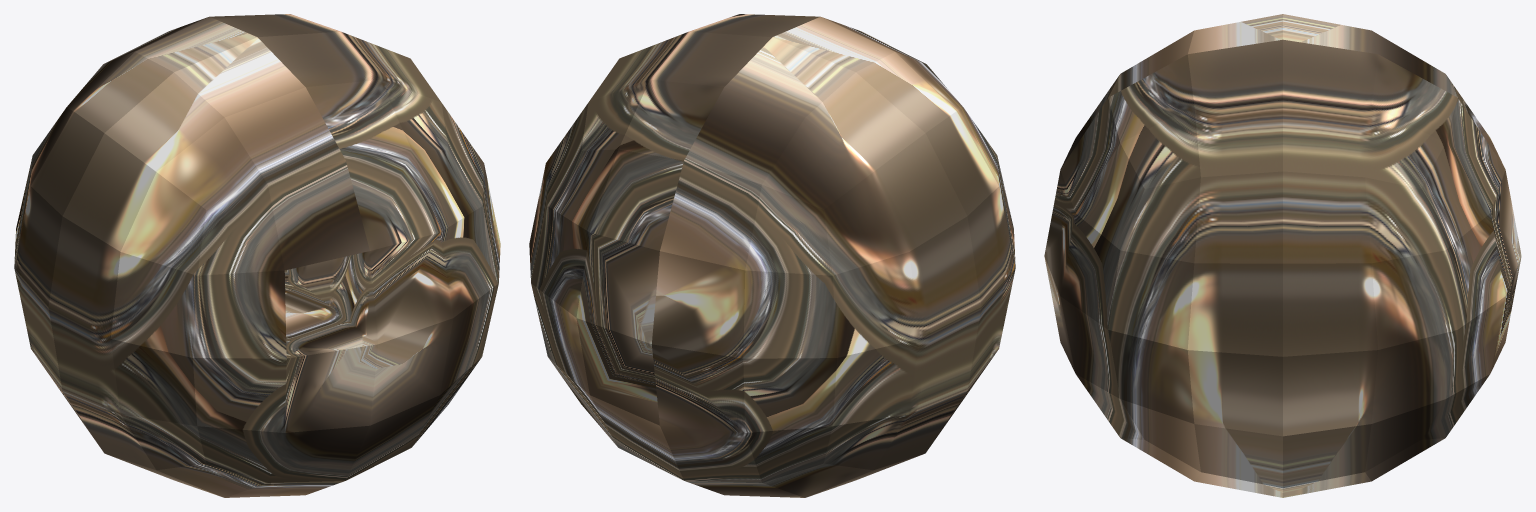
The model's file is csphere2.fbx.
3 renders of one model, left to right at view 1: azimuth 30°, elevation 25°; view 2: azimuth 150°, elevation 25°; view 3: azimuth 270°, elevation 25°, orthographic.
Parts seen in each view (by area): view 1: Cube; view 2: Cube; view 3: Cube.
Boxes of the visible parts, x1=… form: Cube: x1=14, y1=14, x2=500, y2=497; Cube: x1=529, y1=14, x2=1015, y2=497; Cube: x1=1044, y1=14, x2=1521, y2=497.
Size of the model in its own units: 1.76 by 1.76 by 1.76.
Materials: 1 (1 with a texture image).
